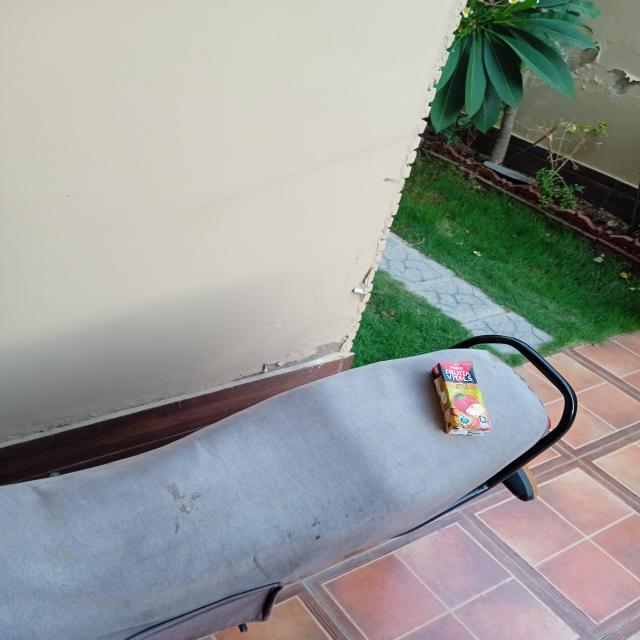Plastic: (429, 358, 496, 436)
